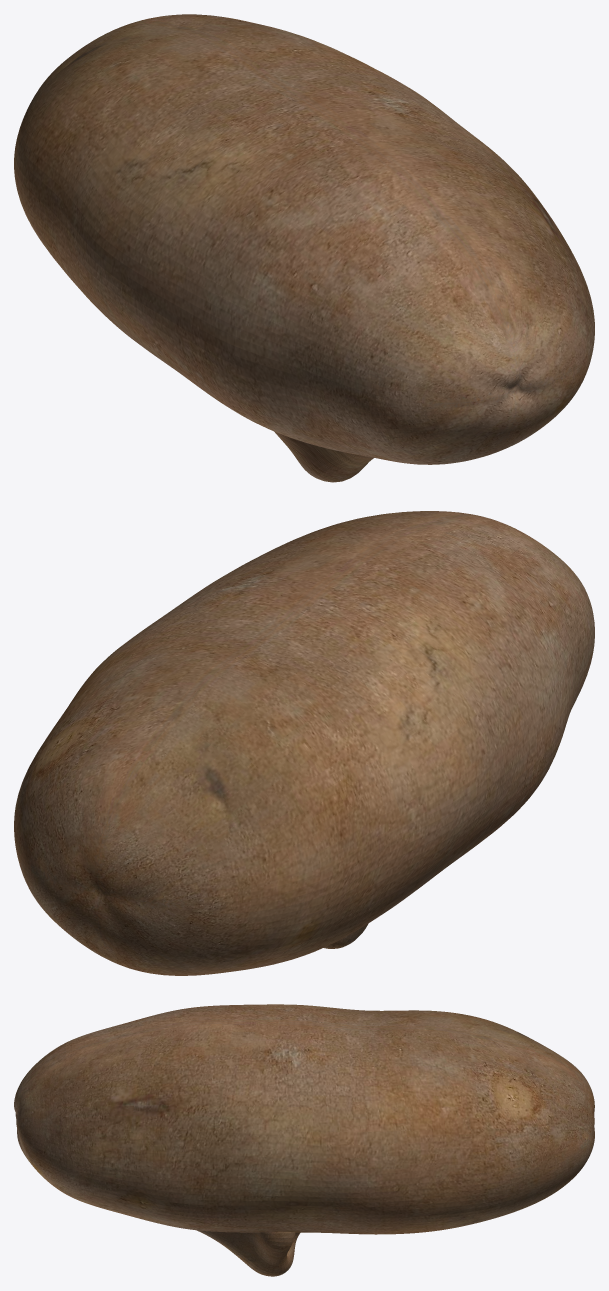
The model's file is potato.obj.
3 views of the same model, one above another, from view 1: azimuth 30°, elevation 25°; view 2: azimuth 150°, elevation 25°; view 3: azimuth 270°, elevation 25° (orthographic). The views are drawn at different scales.
Parts seen in each view (by area): view 1: Object.2, Object.1; view 2: Object.2; view 3: Object.2, Object.1.
Part boxes in pixels (box(x1,y1,x2,y2)): Object.2: box(14, 14, 594, 464); Object.1: box(274, 431, 373, 482); Object.2: box(14, 511, 594, 975); Object.2: box(14, 1004, 594, 1234); Object.1: box(197, 1230, 300, 1276).
Bounding box in the file's own units: 65.71 × 62.11 × 129.
3 materials, 2 textured.
